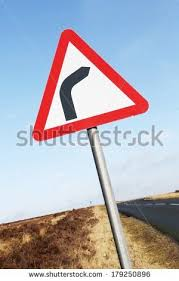Bend_to_right: (33, 27, 150, 141)
